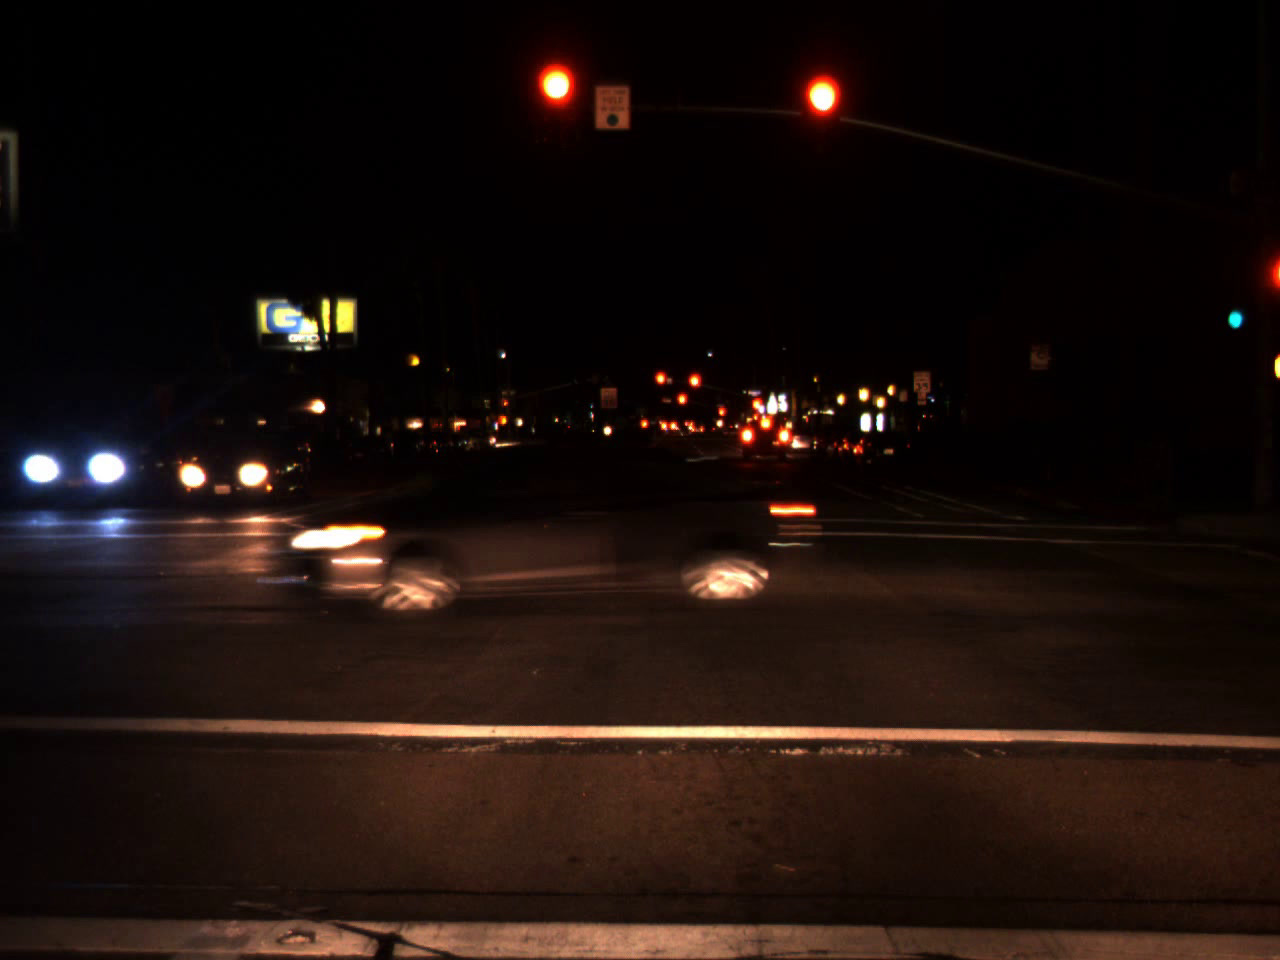stop: (537, 65, 577, 143), (802, 77, 841, 152), (686, 371, 702, 403), (653, 370, 666, 399), (676, 391, 688, 418), (750, 396, 763, 412), (717, 406, 726, 427), (503, 398, 509, 414)
